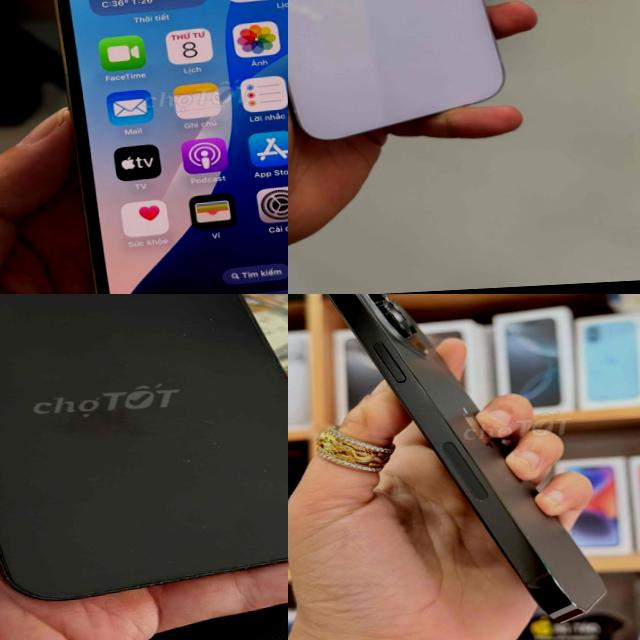gen_12_13: (35, 0, 288, 294)
gen_14: (301, 294, 626, 640), (0, 294, 288, 621), (288, 0, 512, 156)
scratch: (30, 550, 288, 600), (204, 306, 216, 326)
